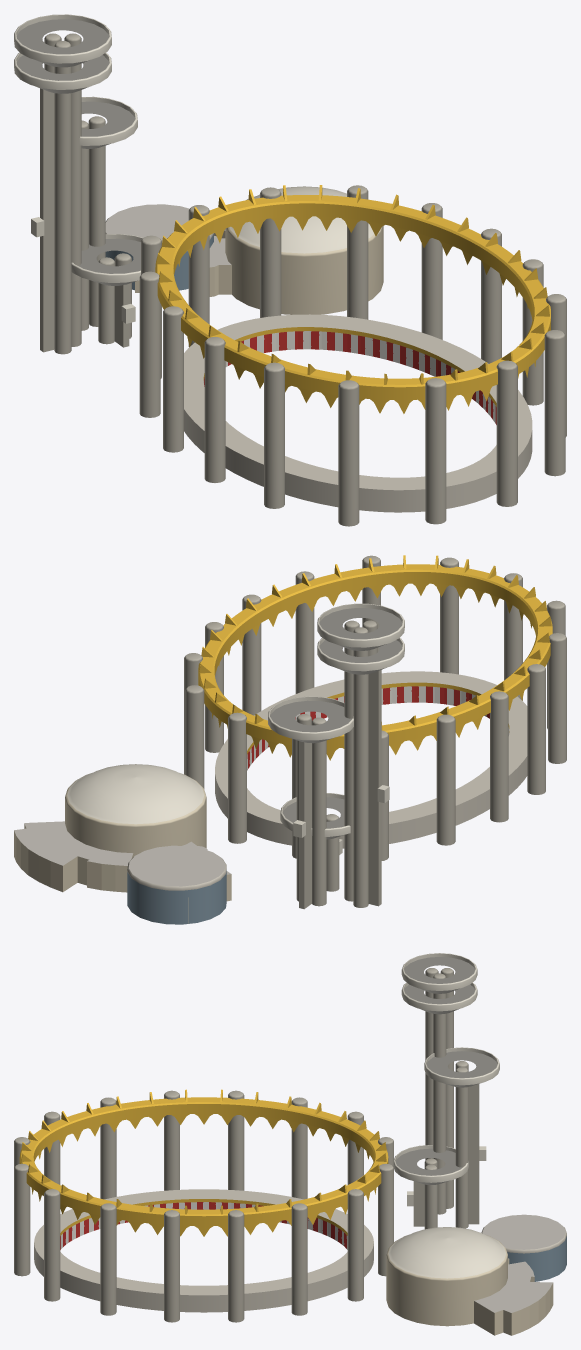
Rendered from new-york-state-pavilion.glb.
3 views of the same model, one above another, from view 1: azimuth 30°, elevation 25°; view 2: azimuth 150°, elevation 25°; view 3: azimuth 270°, elevation 25° (orthographic). The views are drawn at different scales.
Parts seen in each view (by area): view 1: new-york-state-pavilion; view 2: new-york-state-pavilion; view 3: new-york-state-pavilion.
Boxes of the visible parts, x1,y1,x2,y2 form: new-york-state-pavilion: [14, 14, 566, 526]; new-york-state-pavilion: [14, 555, 566, 924]; new-york-state-pavilion: [14, 953, 566, 1335].
Bounding box in the file's own units: 88.1 × 68.35 × 143.
Materials: 9 (1 with a texture image).
